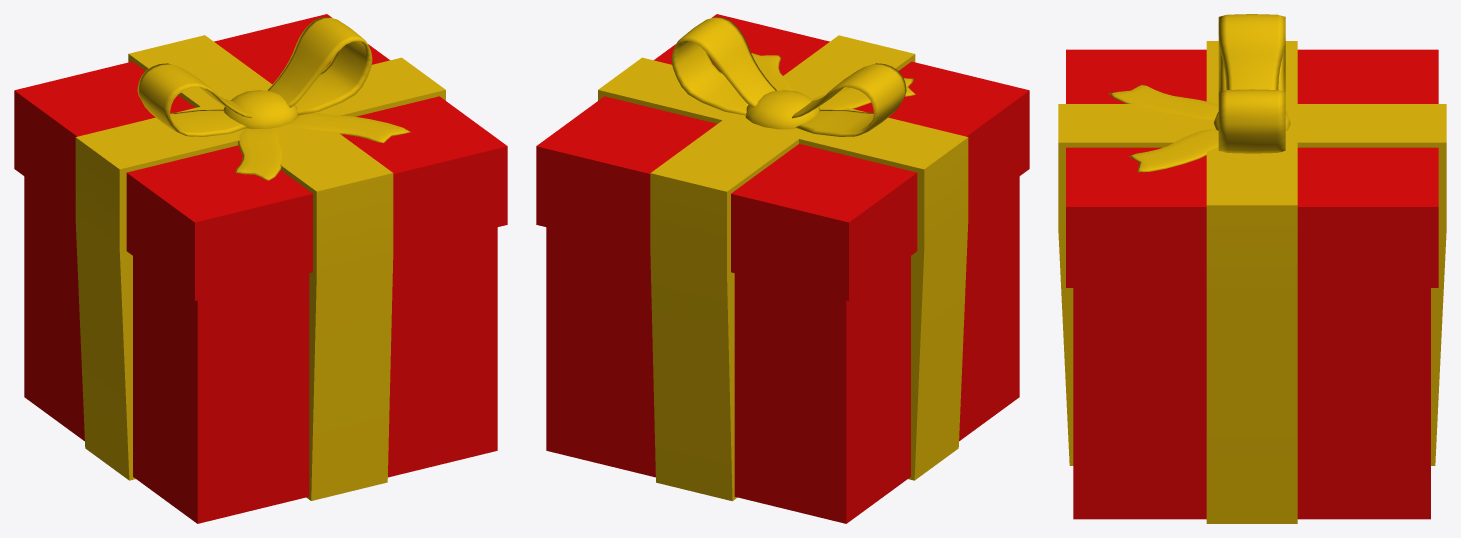
The model's file is Cadeautje.fbx.
3 renders of one model, left to right at view 1: azimuth 30°, elevation 25°; view 2: azimuth 150°, elevation 25°; view 3: azimuth 270°, elevation 25°, orthographic. The views are drawn at different scales.
Parts seen in each view (by area): view 1: Cadeau; view 2: Cadeau; view 3: Cadeau.
Boxes of the visible parts, x1=… form: Cadeau: x1=14, y1=14, x2=507, y2=523; Cadeau: x1=536, y1=14, x2=1029, y2=523; Cadeau: x1=1058, y1=14, x2=1446, y2=523.
Bounding box in the file's own units: 4.35 × 4.86 × 4.35.
